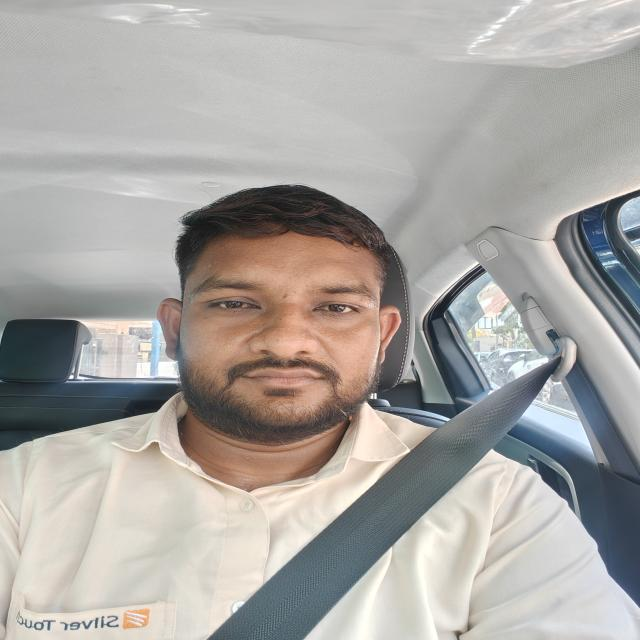seatbelt: (190, 346, 540, 640)
